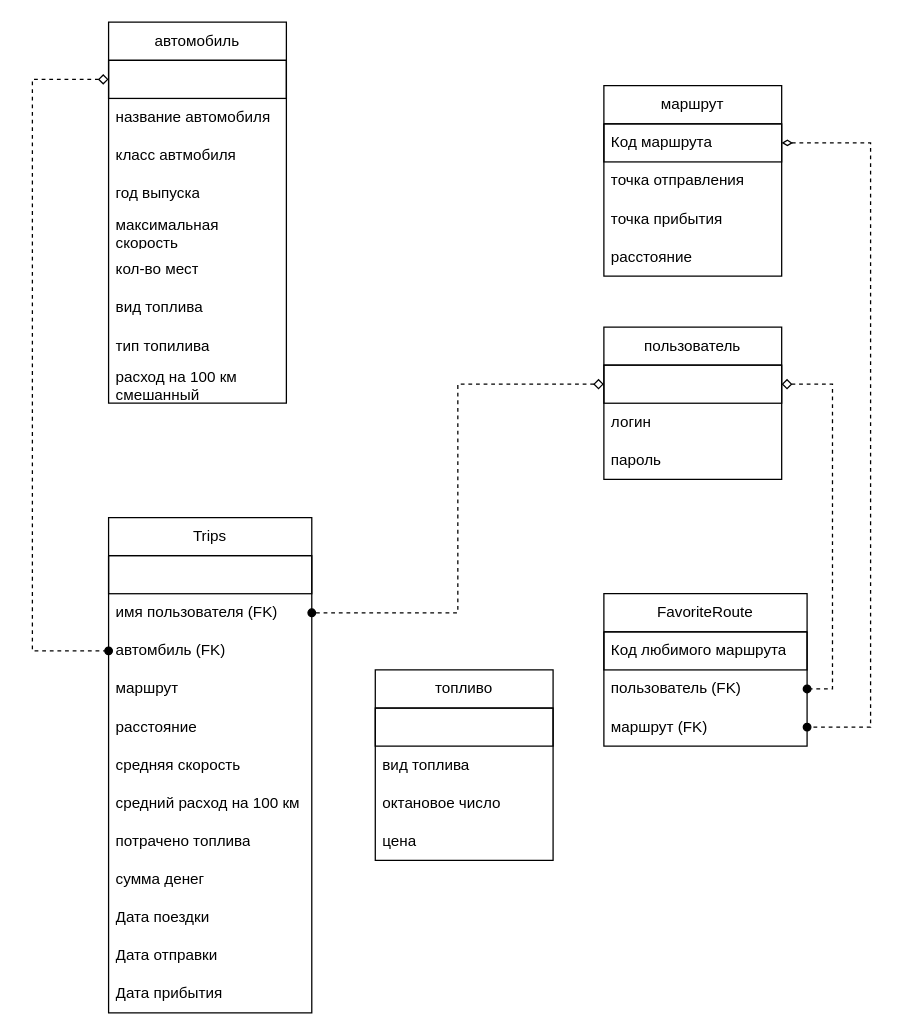
Image size: 904x1035. Some labels were removed from this diagram. Here are the shapes that lost their labels. From the top down, the centre of each, then its label:
(x=196, y=78): код автомобиля
(x=692, y=383): код пользователя
(x=209, y=574): Код поездки
(x=463, y=726): код топлива
